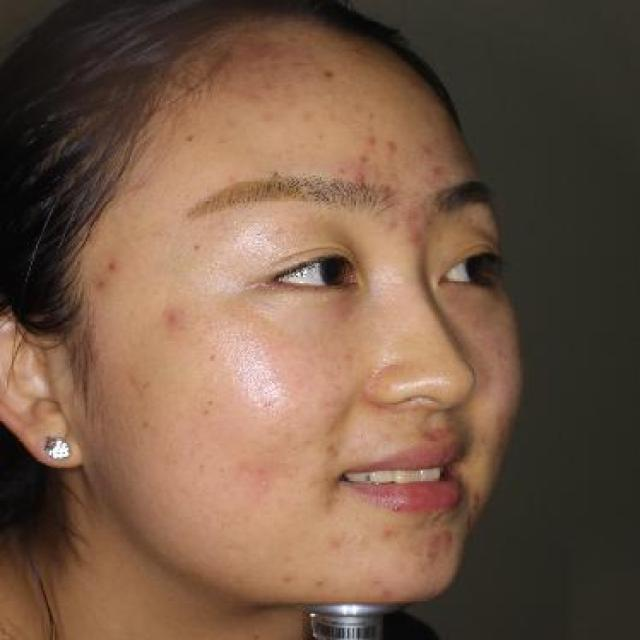Acne: (163, 304, 194, 329), (308, 569, 332, 594), (425, 160, 450, 181), (384, 137, 401, 155), (352, 168, 372, 183), (385, 503, 406, 515), (361, 134, 378, 148)
Blackheads: (317, 60, 342, 85), (176, 129, 202, 148)
